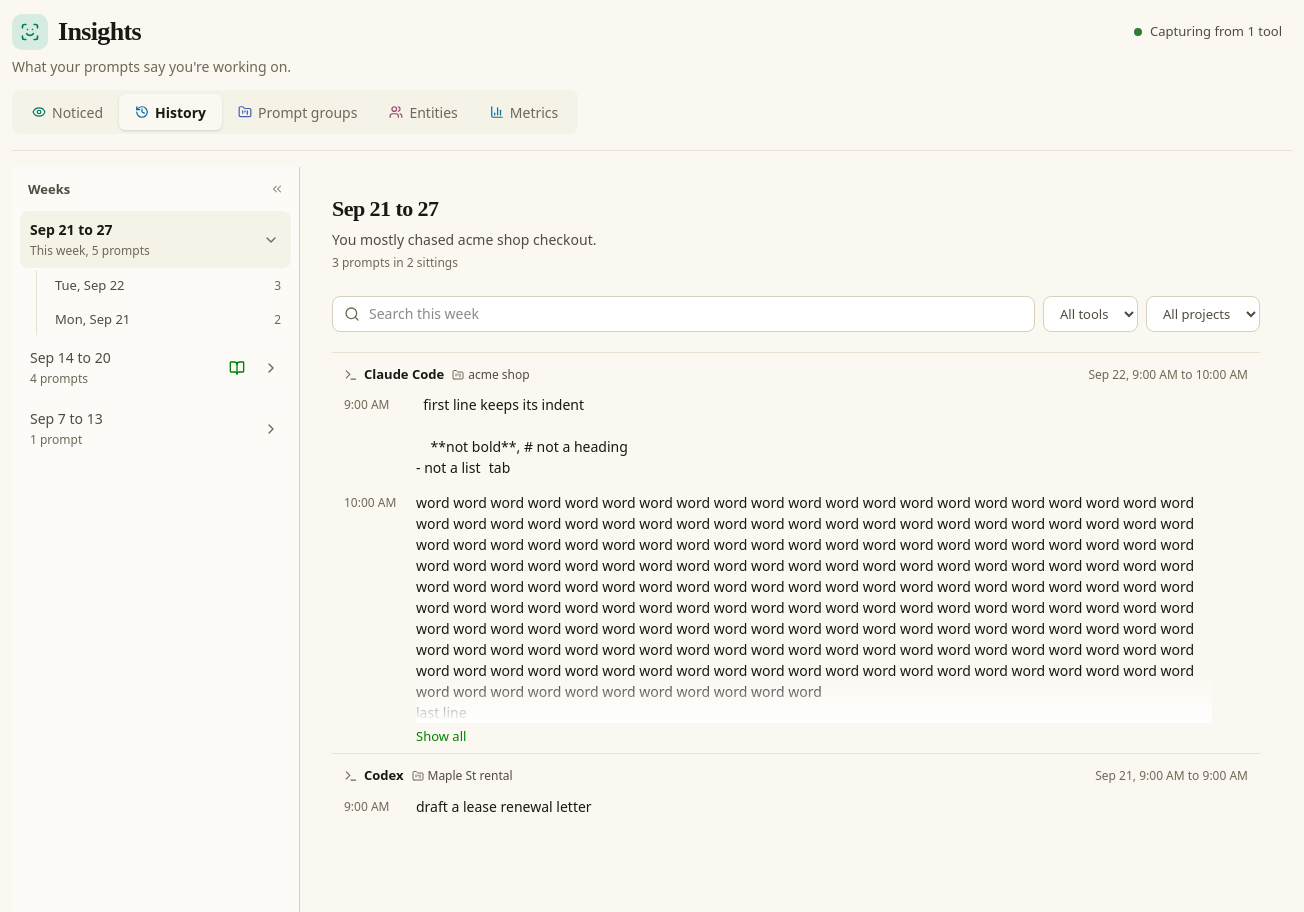
it: History › a day in the sidebar shows only that day, and says so when it is empty
Click the button with test id "period-day-2026-09-21": (168, 320) [45, 304, 291, 335]
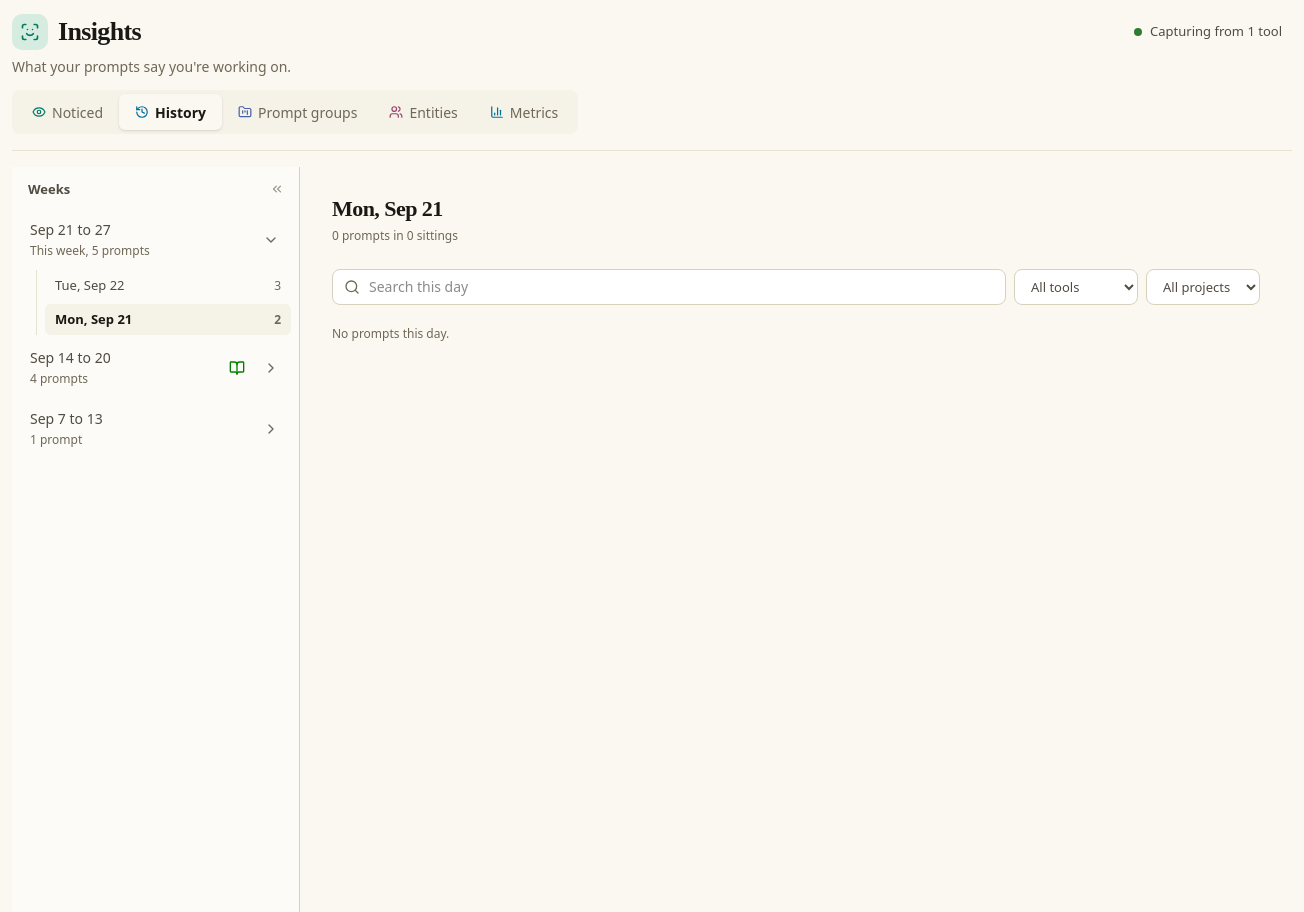
Expected: the text "No prompts this day." is shown, [332, 325, 449, 342]
Expected: the heading with test id "period-title" reads "Mon, Sep 21", [332, 196, 443, 221]
